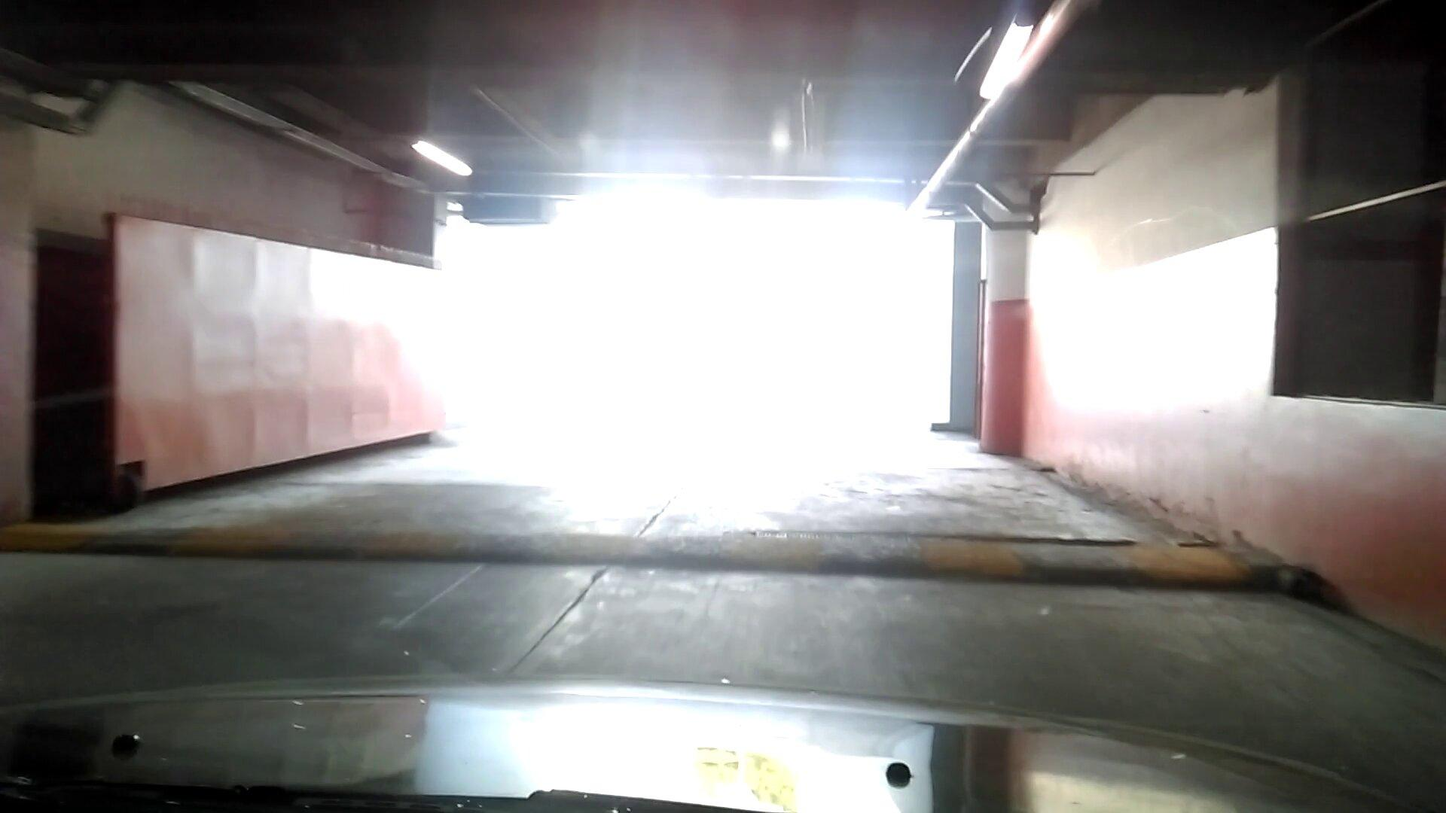Bump: (0, 516, 1299, 604)
